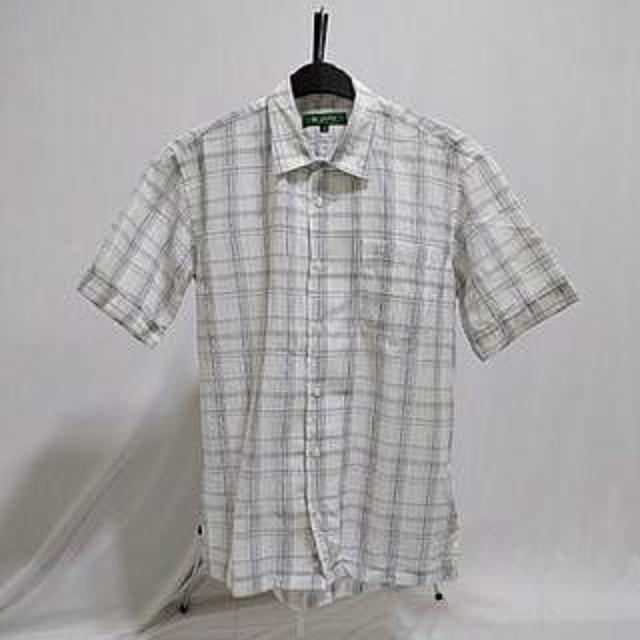SHIRT: (66, 53, 594, 620)
